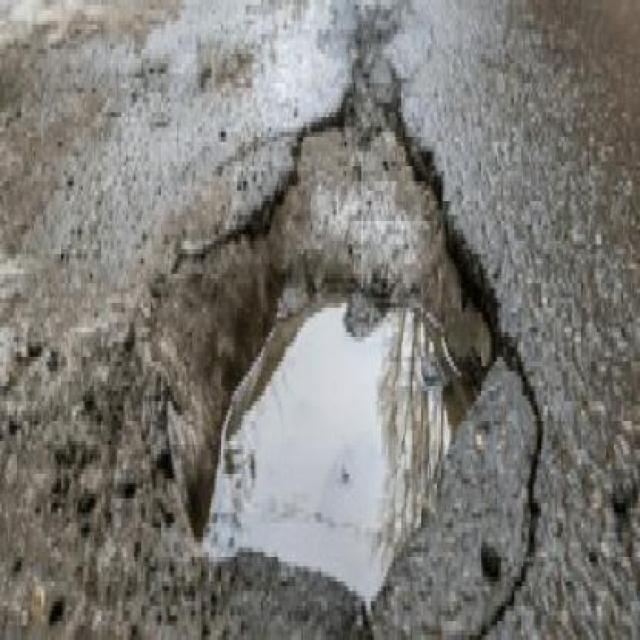Pothole: (175, 103, 514, 635)
